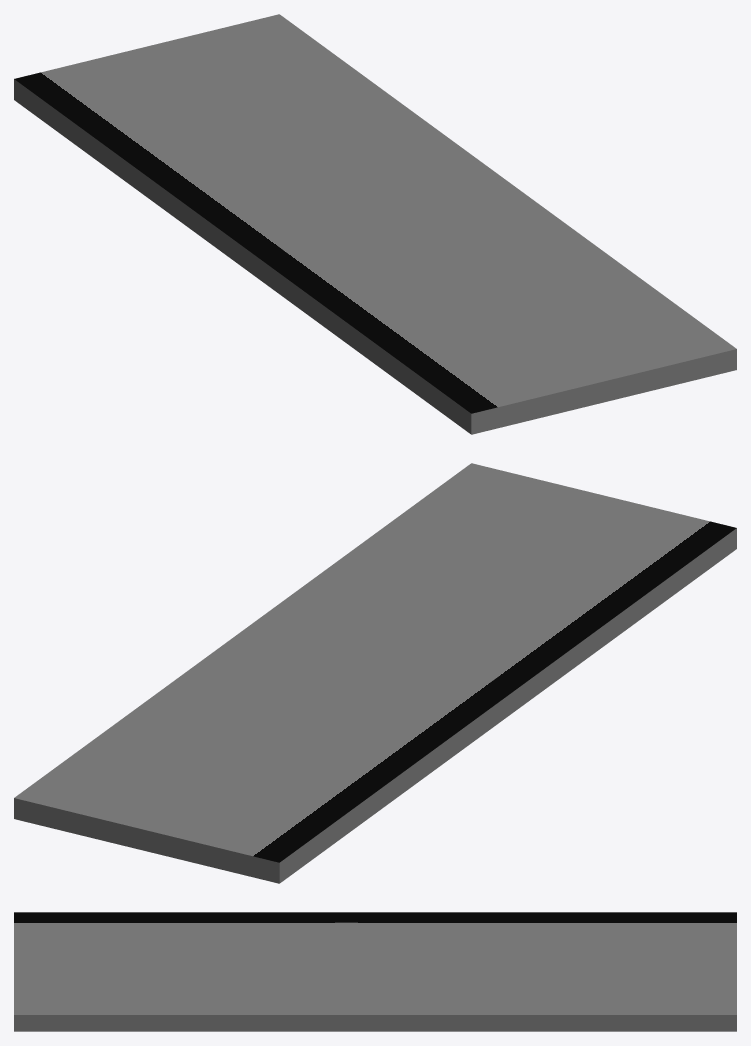
File: stage_cut.fbx
3 renders of one model, top to bottom at view 1: azimuth 30°, elevation 25°; view 2: azimuth 150°, elevation 25°; view 3: azimuth 270°, elevation 25°, orthographic. The views are drawn at different scales.
Visible parts, largest first — view 1: 立方体; view 2: 立方体; view 3: 立方体.
Boxes of the visible parts, left/top/right/bottom form: 立方体: left=14, top=14, right=736, bottom=434; 立方体: left=14, top=463, right=736, bottom=883; 立方体: left=14, top=912, right=736, bottom=1031.
Size of the model in its own units: 1147 by 86.77 by 3423.
Materials: 1 (1 with a texture image).
